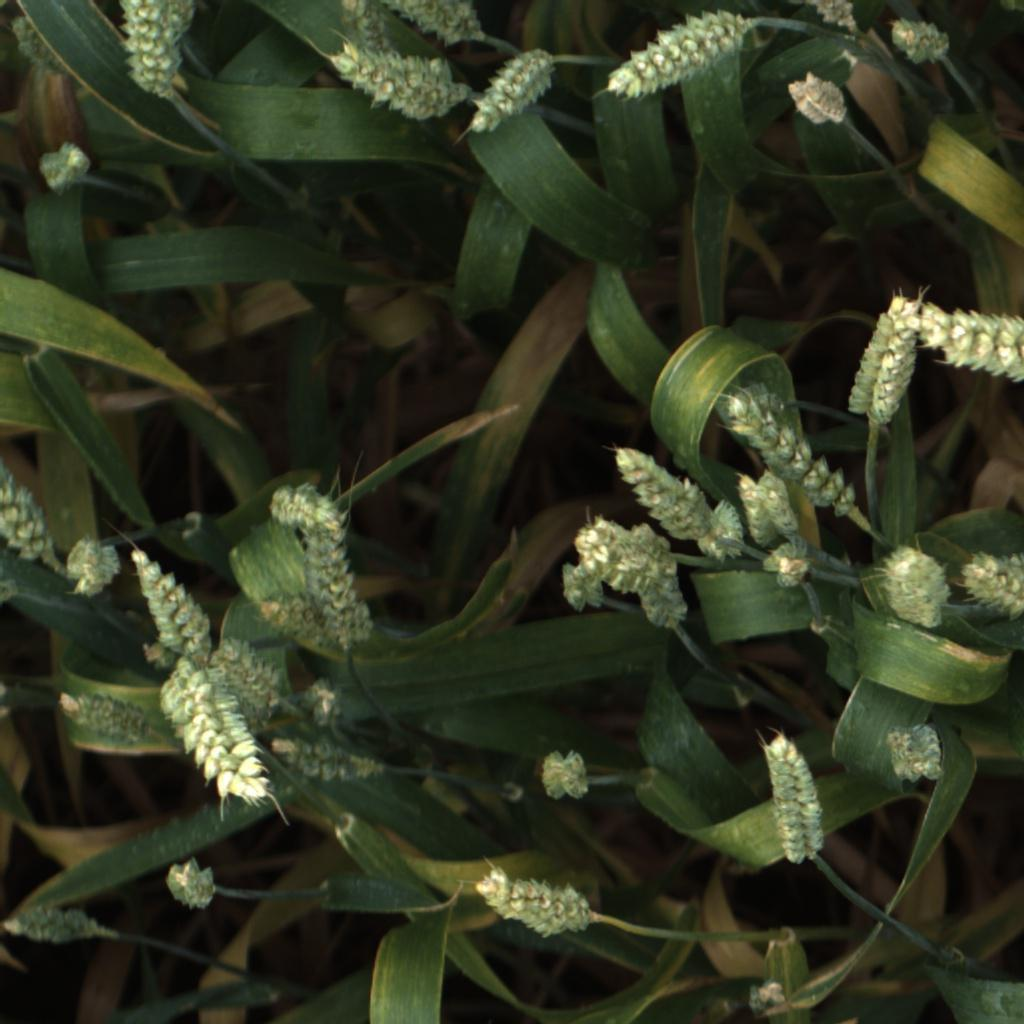0-0: (152, 657, 275, 819), (725, 389, 876, 511), (601, 10, 753, 104), (598, 435, 722, 542), (903, 294, 1024, 400), (129, 548, 223, 666), (328, 41, 461, 122), (756, 728, 832, 868), (844, 291, 924, 423), (297, 524, 376, 652), (468, 864, 593, 943), (465, 47, 558, 135), (622, 520, 690, 630), (876, 544, 957, 632), (52, 687, 155, 756), (117, 0, 186, 101), (266, 730, 378, 789), (207, 636, 289, 712), (733, 465, 802, 554), (2, 898, 114, 950), (265, 474, 350, 541), (374, 0, 490, 49), (571, 507, 635, 591), (959, 545, 1024, 627), (254, 591, 341, 651), (0, 463, 52, 563), (10, 11, 75, 82), (782, 69, 852, 129), (54, 539, 124, 599), (884, 720, 947, 786), (687, 498, 750, 564), (554, 551, 612, 618), (885, 15, 956, 68), (535, 746, 596, 803), (337, 0, 398, 53), (165, 855, 219, 914), (37, 140, 93, 196), (295, 672, 348, 731), (759, 540, 814, 592), (803, 0, 860, 33), (747, 976, 785, 1018), (166, 0, 198, 38), (140, 640, 175, 669), (0, 579, 20, 603)
